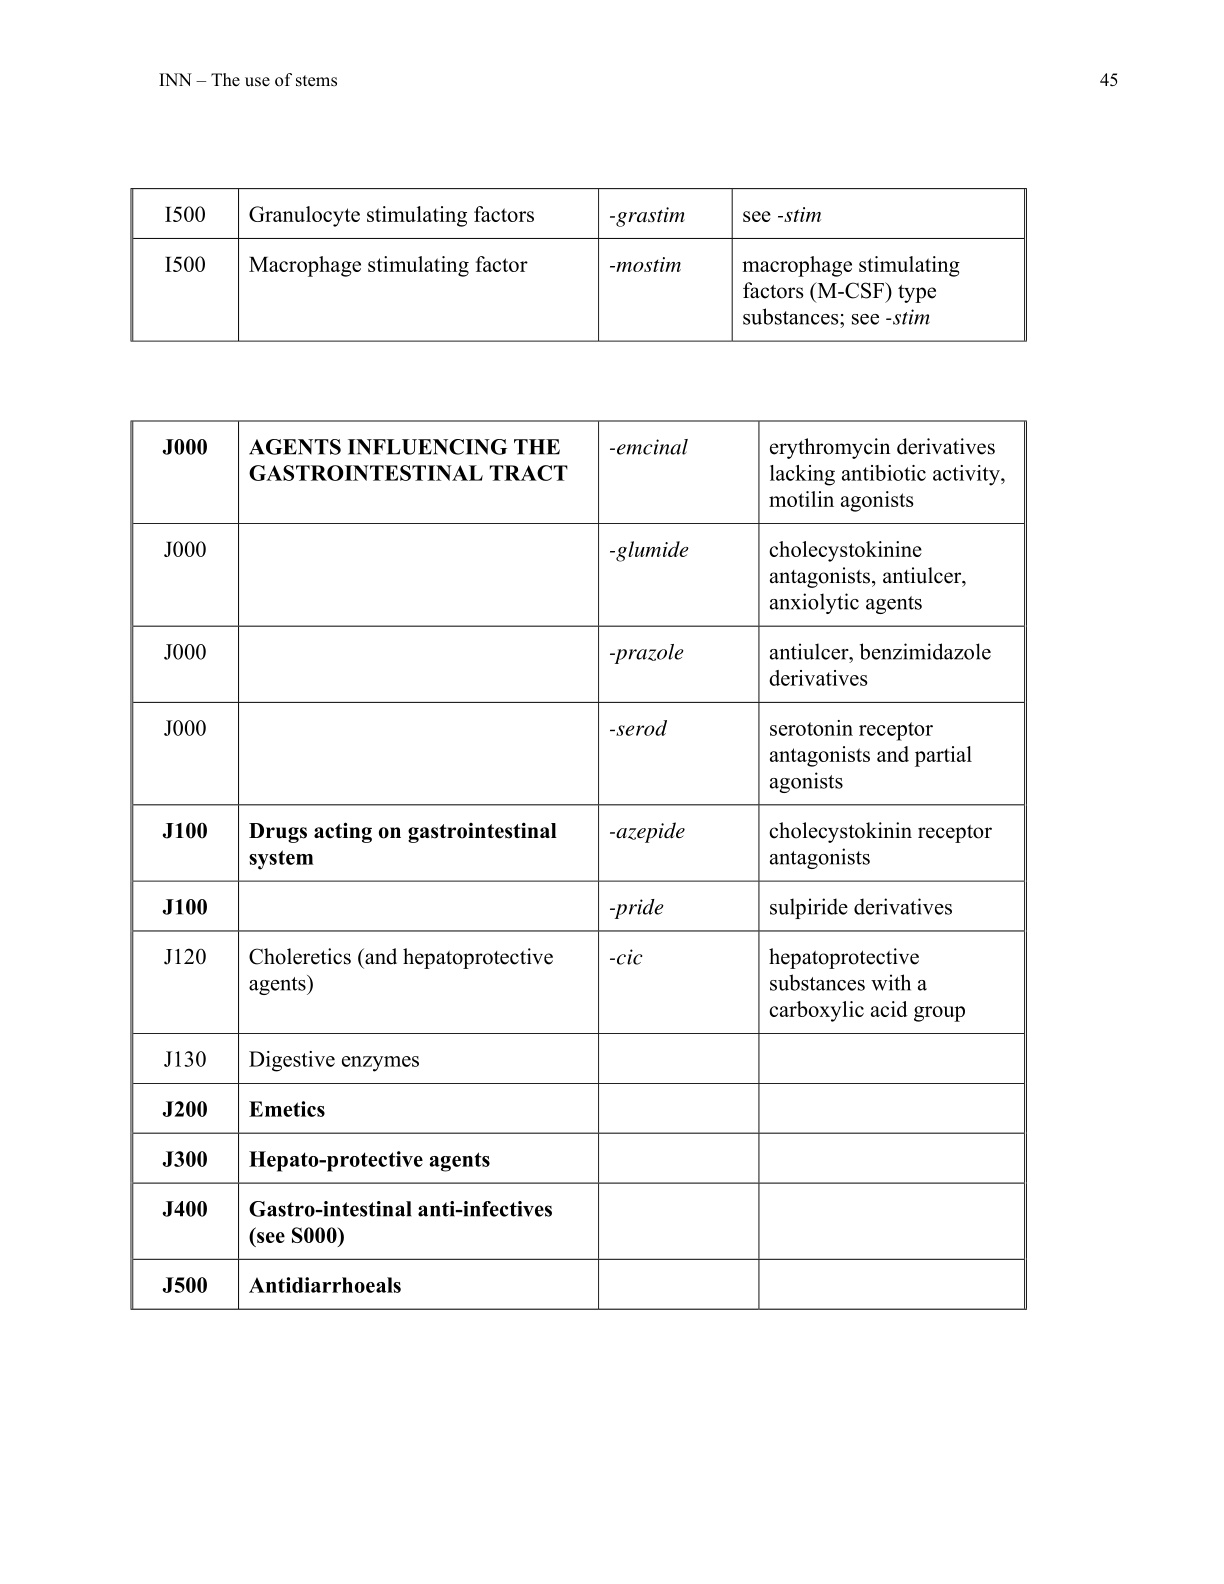full_lined: (129, 419, 1027, 1310), (129, 186, 1027, 342)
